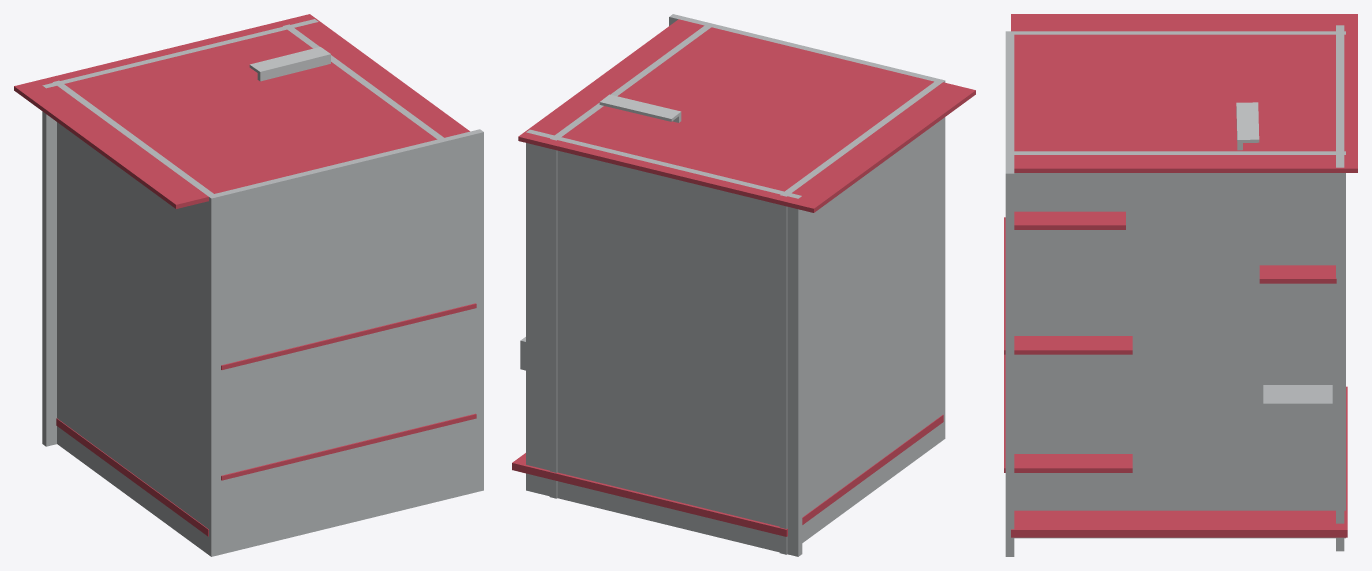
3 renders of one model, left to right at view 1: azimuth 30°, elevation 25°; view 2: azimuth 150°, elevation 25°; view 3: azimuth 270°, elevation 25°, orthographic. The views are drawn at different scales.
Visible parts, largest first — view 1: Mesh_Mesh_head_geo.001_lambert2SG.001; view 2: Mesh_Mesh_head_geo.001_lambert2SG.001; view 3: Mesh_Mesh_head_geo.001_lambert2SG.001.
Boxes of the visible parts, box(x1,y1,x2,y2) form: Mesh_Mesh_head_geo.001_lambert2SG.001: box(14, 14, 483, 556); Mesh_Mesh_head_geo.001_lambert2SG.001: box(512, 14, 975, 556); Mesh_Mesh_head_geo.001_lambert2SG.001: box(1004, 14, 1357, 556).
Bounding box in the file's own units: 224 × 257 × 209.
